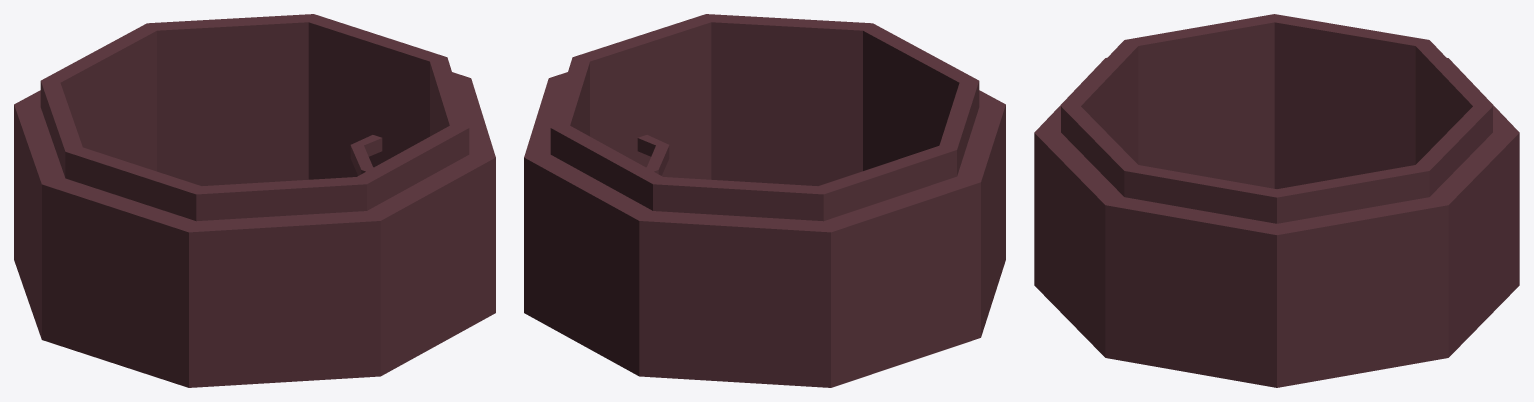
The model's file is construction-concrete-ring-medium.glb.
3 renders of one model, left to right at view 1: azimuth 30°, elevation 25°; view 2: azimuth 150°, elevation 25°; view 3: azimuth 270°, elevation 25°, orthographic.
Visible parts, largest first — view 1: concrete-ring-medium; view 2: concrete-ring-medium; view 3: concrete-ring-medium.
Part boxes in pixels (left/top/right/bottom): concrete-ring-medium: left=14, top=14, right=495, bottom=387; concrete-ring-medium: left=524, top=14, right=1005, bottom=387; concrete-ring-medium: left=1034, top=14, right=1519, bottom=387.
Bounding box in the file's own units: 1.24 × 0.5007 × 1.23.
